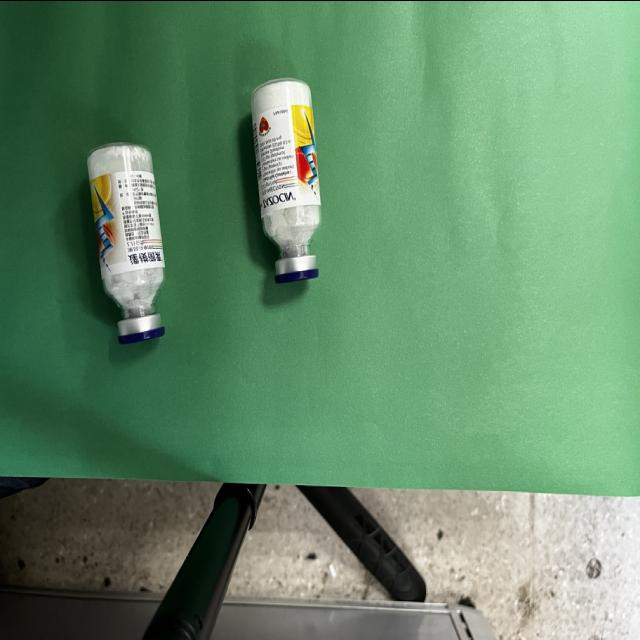Vials: (88, 143, 164, 343), (252, 77, 320, 283)
